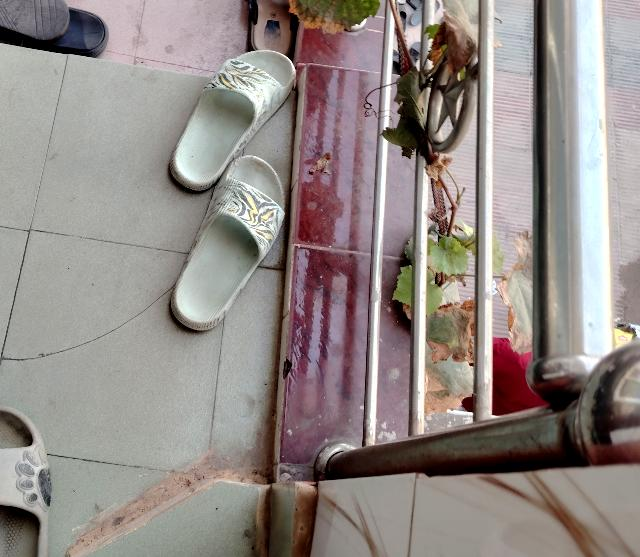sandal: (153, 140, 297, 335), (156, 29, 306, 199), (0, 401, 48, 557)
